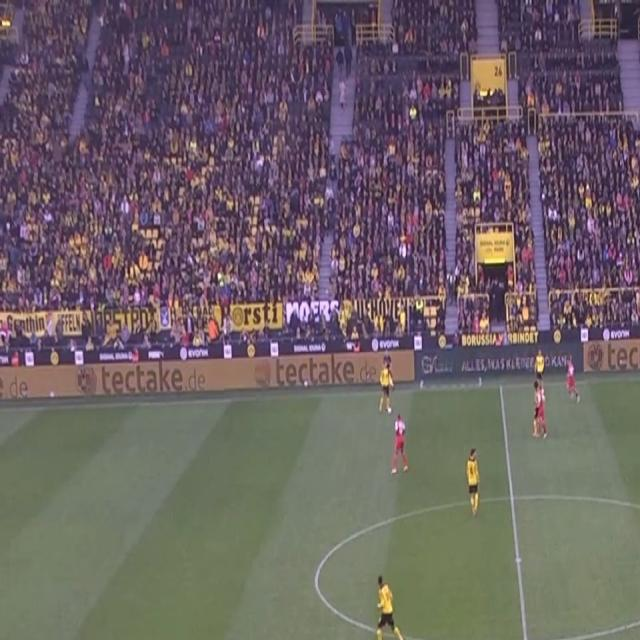ball: (387, 404, 392, 416)
